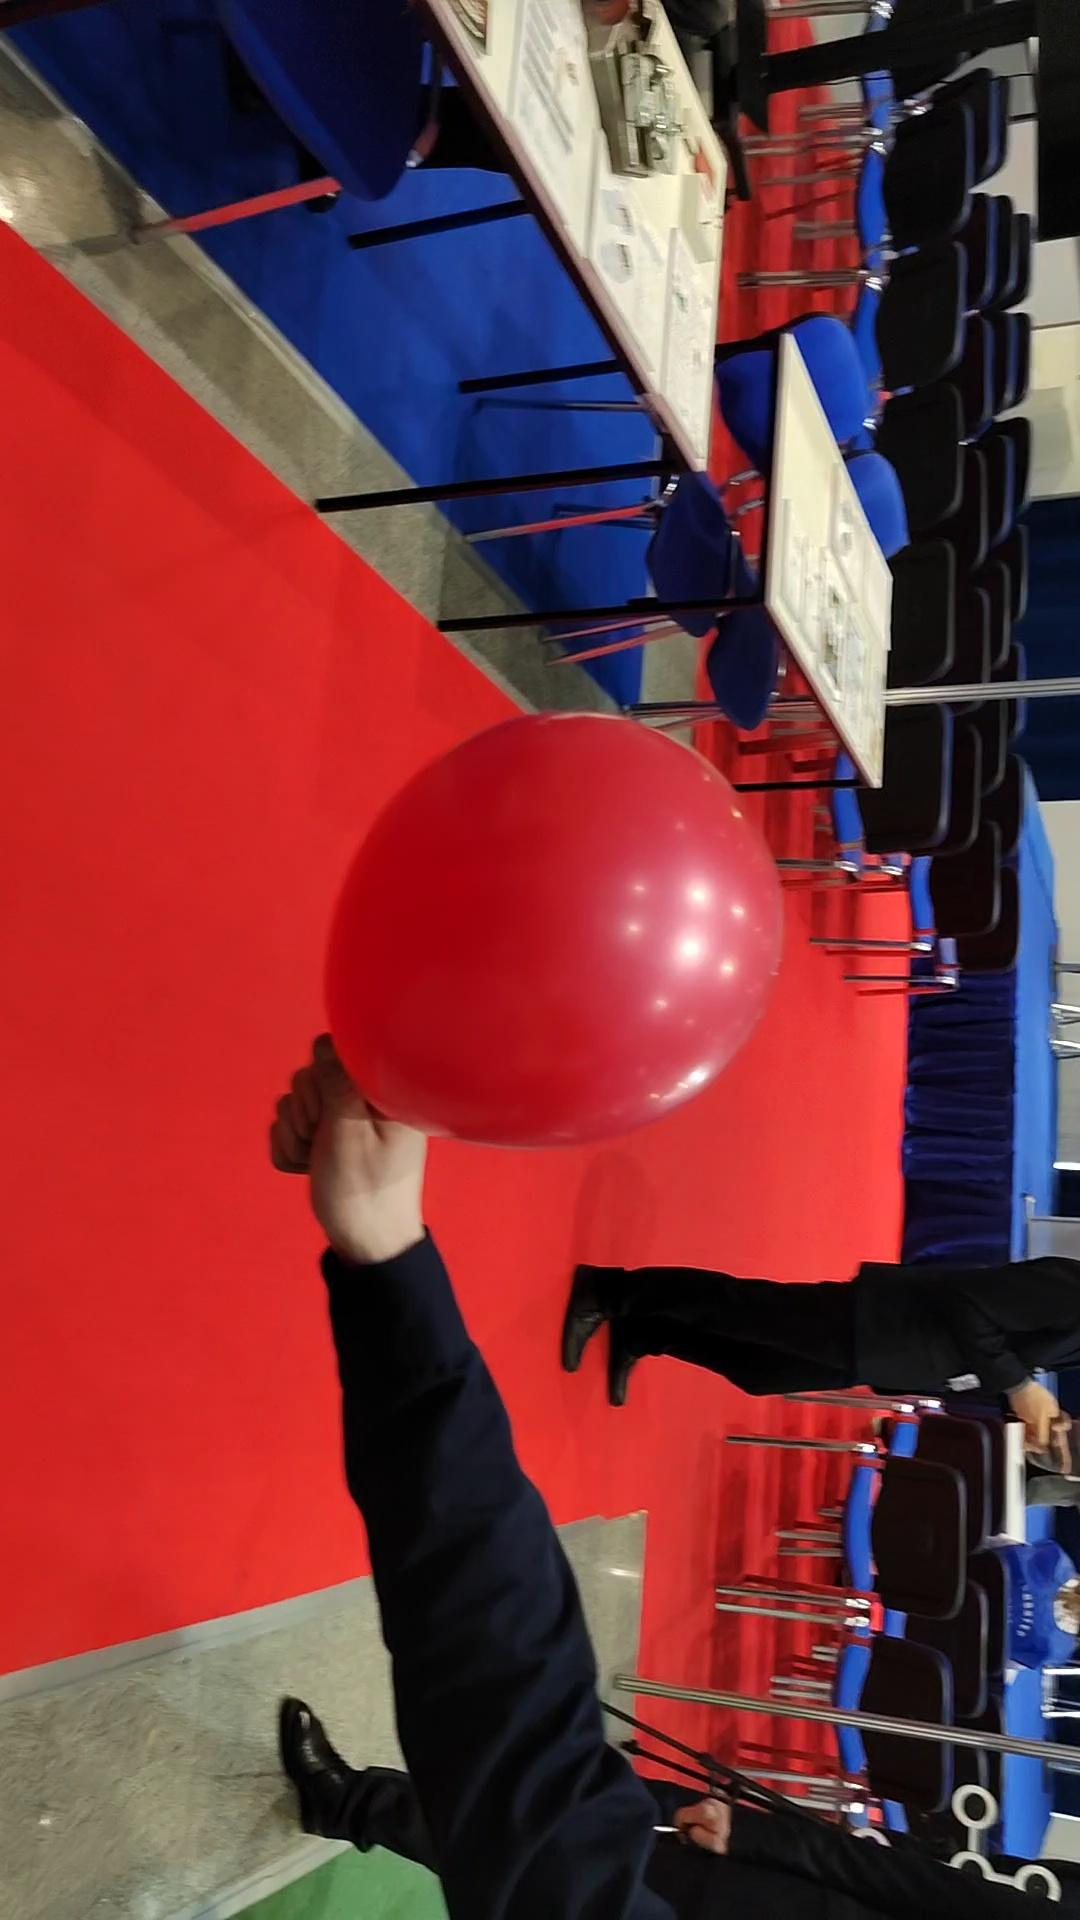red: (314, 704, 779, 1158)
